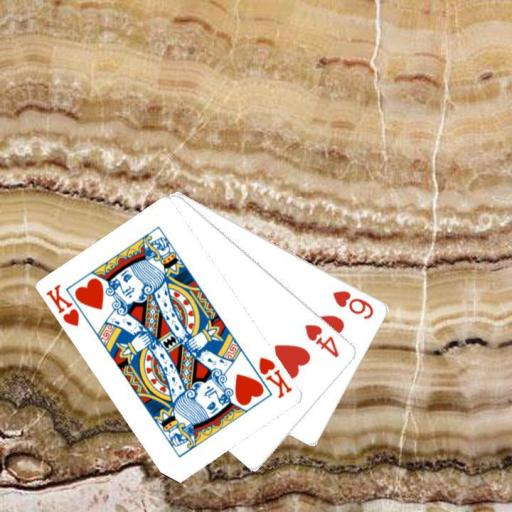4H: (302, 321, 342, 359)
6H: (330, 287, 375, 321)
KH: (43, 281, 82, 328), (256, 354, 294, 401)
